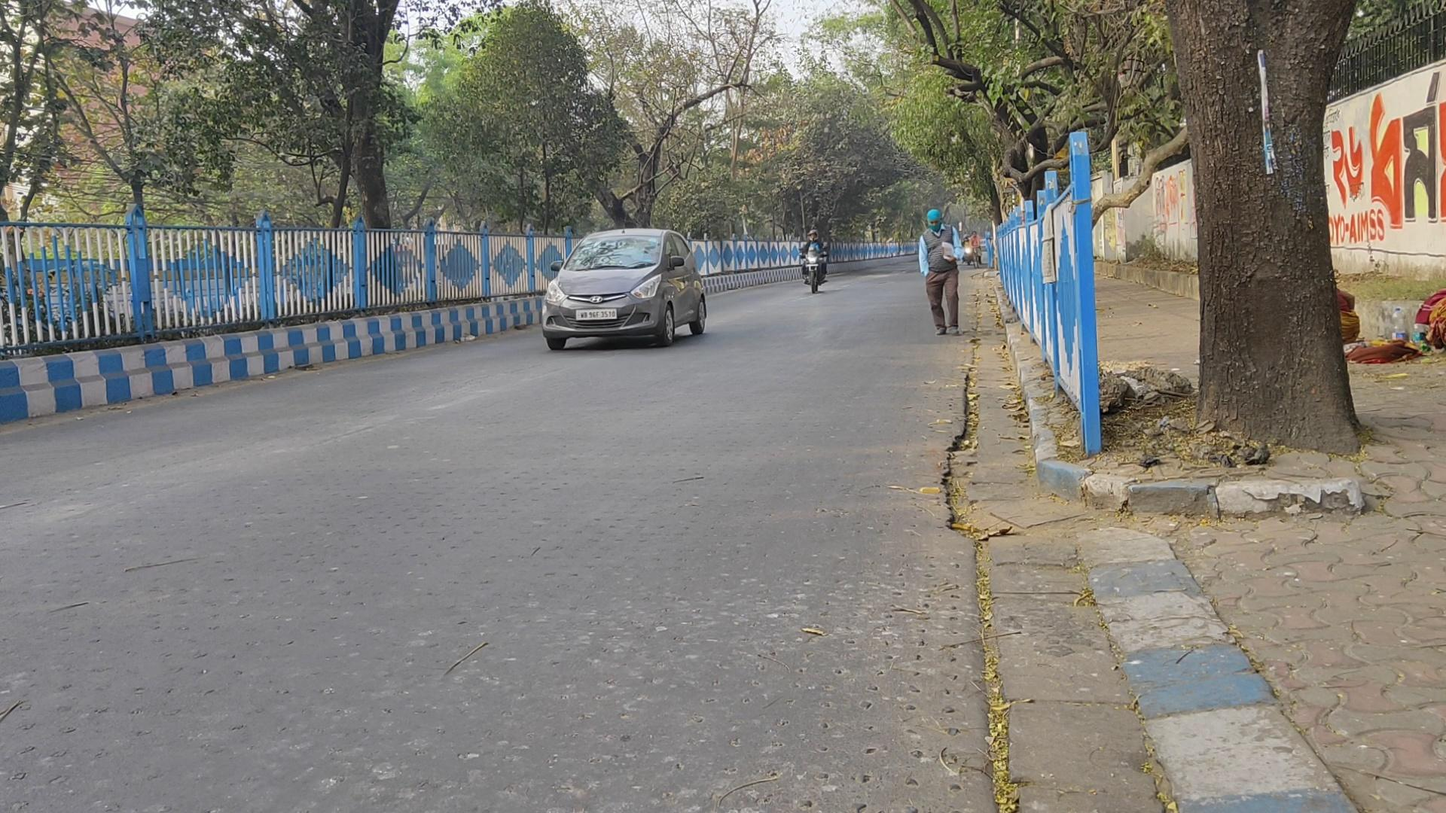bike: (798, 229, 831, 294), (969, 230, 982, 270)
car: (541, 229, 708, 353)
